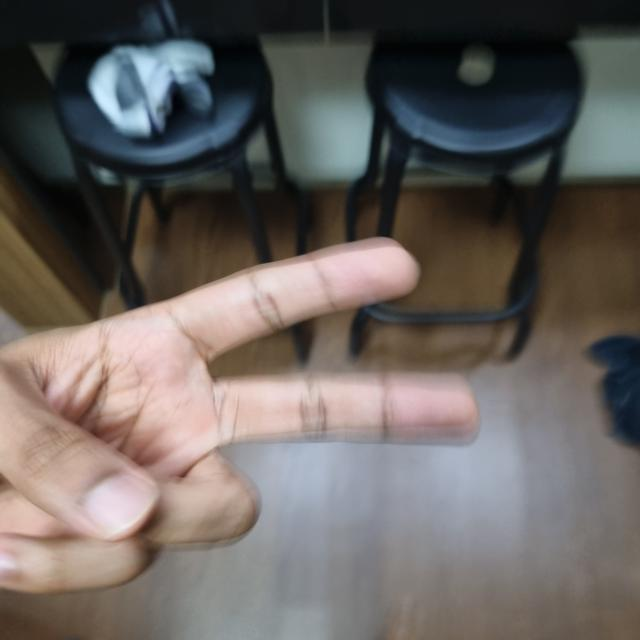Scissors: (0, 245, 637, 639)
